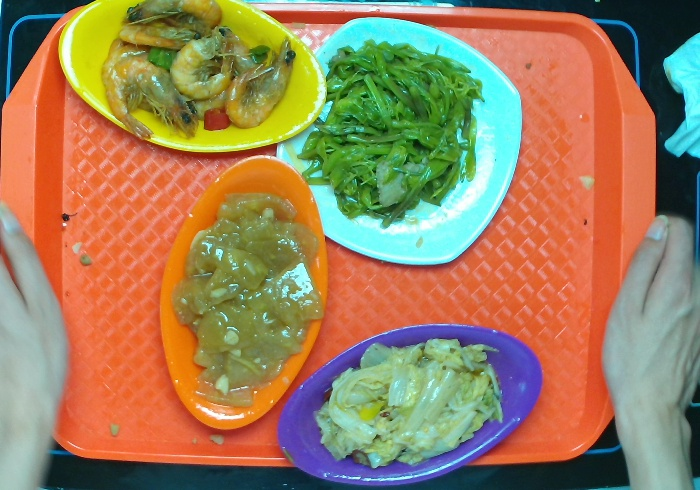RJxy-Fen_Hong_Tuo_Yuan: (280, 321, 549, 490)
RJxy-Huang_Se_Tuo_Yuan: (58, 1, 332, 160)
RJxy-Ju_Huang_Tuo_Yuan: (155, 151, 331, 432)
RJxy-Si_Fang_Die: (267, 12, 527, 276)
